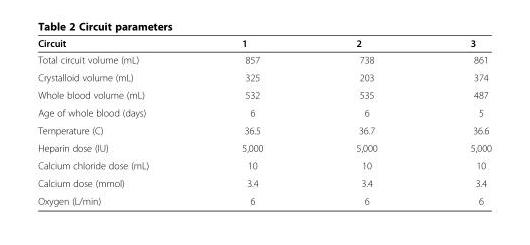table: (37, 37, 490, 206)
table column: (37, 37, 194, 206), (308, 37, 423, 206), (194, 37, 308, 206), (423, 37, 490, 206)
table column header: (37, 37, 490, 51)
table row: (37, 85, 490, 103), (37, 103, 490, 121), (37, 138, 490, 156), (37, 156, 490, 174), (37, 51, 490, 68), (37, 68, 490, 85), (37, 121, 490, 138), (37, 174, 490, 191), (37, 191, 490, 206), (37, 37, 490, 51)
